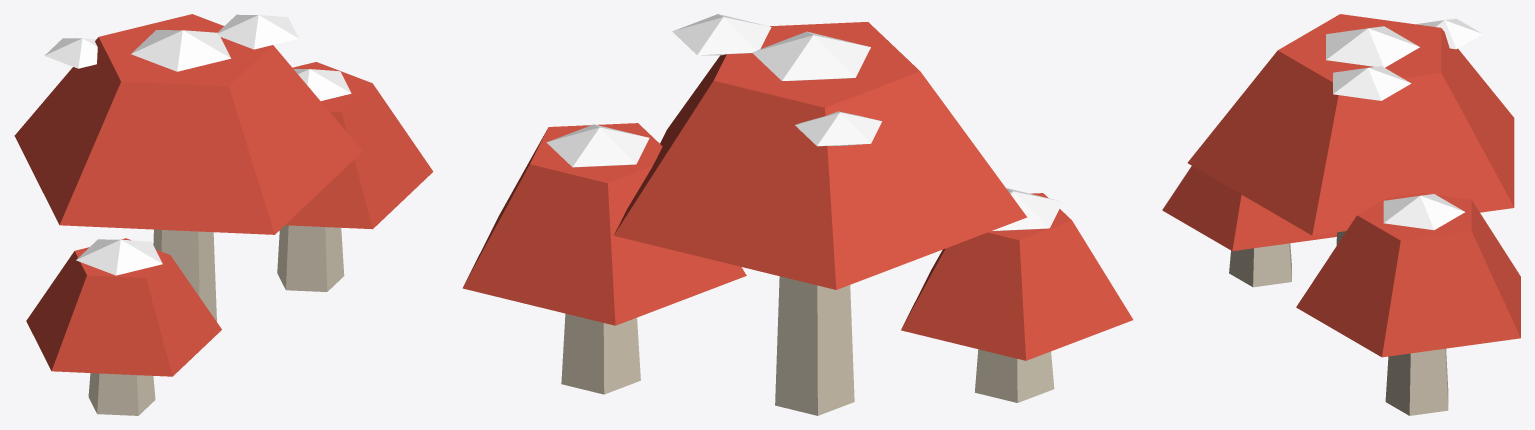
The model's file is wood_mushrooms.fbx.
The picture shows the model from 3 angles, left to right: view 1: azimuth 30°, elevation 25°; view 2: azimuth 150°, elevation 25°; view 3: azimuth 270°, elevation 25°; orthographic projection. The views are drawn at different scales.
Visible parts, largest first — view 1: wood_mushrooms__cap_red, wood_mushrooms__spot, wood_mushrooms__stem; view 2: wood_mushrooms__cap_red, wood_mushrooms__stem, wood_mushrooms__spot; view 3: wood_mushrooms__cap_red, wood_mushrooms__spot, wood_mushrooms__stem.
Part boxes in pixels (box(x1,y1,x2,y2)): wood_mushrooms__cap_red: box(14, 14, 433, 376); wood_mushrooms__spot: box(44, 14, 351, 275); wood_mushrooms__stem: box(88, 225, 344, 415); wood_mushrooms__cap_red: box(462, 22, 1133, 360); wood_mushrooms__stem: box(561, 276, 1054, 415); wood_mushrooms__spot: box(546, 14, 1062, 231); wood_mushrooms__cap_red: box(1162, 14, 1520, 357); wood_mushrooms__spot: box(1326, 18, 1482, 230); wood_mushrooms__stem: box(1229, 231, 1448, 415).
Size of the model in its own units: 388 by 248 by 268.
